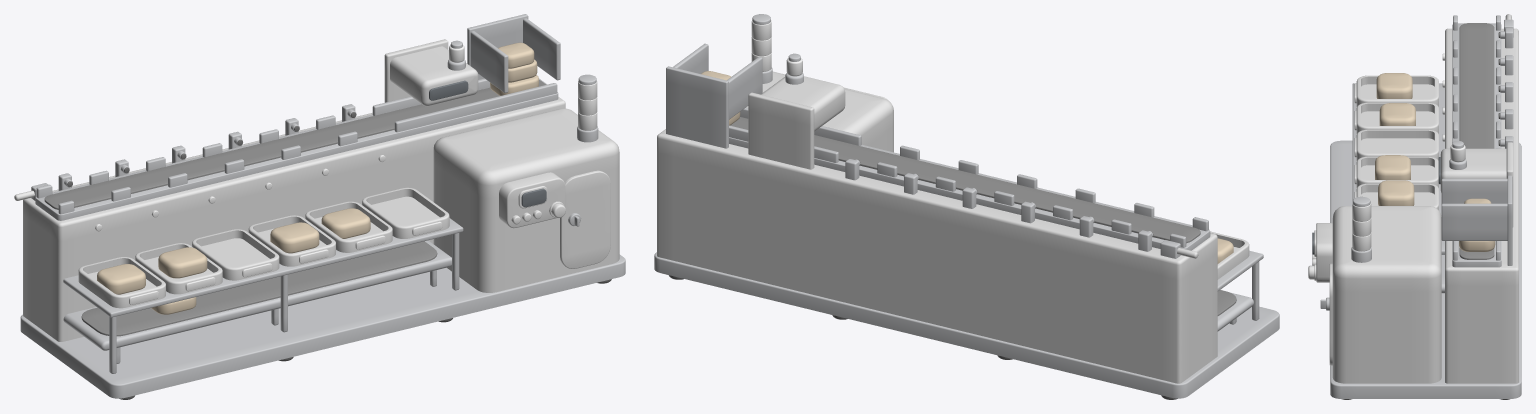
Rendered from sorter_toy.glb.
The picture shows the model from 3 angles, left to right: view 1: azimuth 30°, elevation 25°; view 2: azimuth 150°, elevation 25°; view 3: azimuth 270°, elevation 25°; orthographic projection. The views are drawn at different scales.
Visible parts, largest first — view 1: Sorter/spine, Sorter/base, Sorter/infeed, Sorter/belt, Sorter/take_belt, Sorter/bed, Sorter/take_bed, Sorter/door, Sorter/shelf, Sorter/scan_hood, Sorter/pocket_5, Sorter/pocket_2 (+16 smaller); view 2: Sorter/spine, Sorter/base, Sorter/belt, Sorter/mag_back, Sorter/scan_post, Sorter/bed, Sorter/infeed, Sorter/scan_hood, Sorter/mag_guide_0, Sorter/pocket_0, Sorter/mag_guide_1, Sorter/rail_front_6 (+3 smaller); view 3: Sorter/infeed, Sorter/spine, Sorter/base, Sorter/belt, Sorter/mag_guide_1, Sorter/pocket_2, Sorter/scan_hood, Sorter/bed, Sorter/mag_guide_0, Sorter/pocket_1, Sorter/pocket_0, Sorter/pocket_3 (+16 smaller).
Boxes of the visible parts, x1=… form: Sorter/spine: x1=23, y1=97, x2=565, y2=341; Sorter/base: x1=20, y1=254, x2=625, y2=398; Sorter/infeed: x1=433, y1=108, x2=619, y2=292; Sorter/belt: x1=44, y1=80, x2=545, y2=209; Sorter/take_belt: x1=81, y1=241, x2=437, y2=336; Sorter/bed: x1=35, y1=78, x2=558, y2=220; Sorter/take_bed: x1=63, y1=240, x2=451, y2=350; Sorter/door: x1=560, y1=170, x2=610, y2=268; Sorter/shelf: x1=63, y1=218, x2=463, y2=317; Sorter/scan_hood: x1=390, y1=46, x2=478, y2=106; Sorter/pocket_5: x1=362, y1=187, x2=449, y2=238; Sorter/pocket_2: x1=192, y1=229, x2=279, y2=280; Sorter/spine: x1=657, y1=129, x2=1217, y2=383; Sorter/base: x1=654, y1=252, x2=1279, y2=398; Sorter/belt: x1=730, y1=117, x2=1200, y2=243; Sorter/mag_back: x1=666, y1=66, x2=728, y2=148; Sorter/scan_post: x1=748, y1=92, x2=814, y2=169; Sorter/bed: x1=729, y1=137, x2=1210, y2=250; Sorter/infeed: x1=746, y1=71, x2=893, y2=152; Sorter/scan_hood: x1=761, y1=76, x2=845, y2=131; Sorter/mag_guide_0: x1=727, y1=57, x2=762, y2=119; Sorter/pocket_0: x1=1210, y1=231, x2=1249, y2=279; Sorter/mag_guide_1: x1=673, y1=43, x2=708, y2=73; Sorter/rail_front_6: x1=740, y1=107, x2=861, y2=145; Sorter/infeed: x1=1332, y1=206, x2=1441, y2=383; Sorter/spine: x1=1445, y1=28, x2=1518, y2=383; Sorter/base: x1=1330, y1=140, x2=1521, y2=398; Sorter/belt: x1=1459, y1=23, x2=1494, y2=259; Sorter/mag_guide_1: x1=1441, y1=203, x2=1507, y2=240; Sorter/pocket_2: x1=1356, y1=129, x2=1438, y2=160; Sorter/scan_hood: x1=1440, y1=148, x2=1506, y2=192; Sorter/bed: x1=1452, y1=23, x2=1501, y2=267; Sorter/mag_guide_0: x1=1441, y1=178, x2=1507, y2=203; Sorter/pocket_1: x1=1356, y1=102, x2=1438, y2=133; Sorter/pocket_0: x1=1356, y1=75, x2=1438, y2=106; Sorter/pocket_3: x1=1356, y1=156, x2=1438, y2=187.
Bounding box in the file's own units: 3.57 × 1.42 × 1.29.
